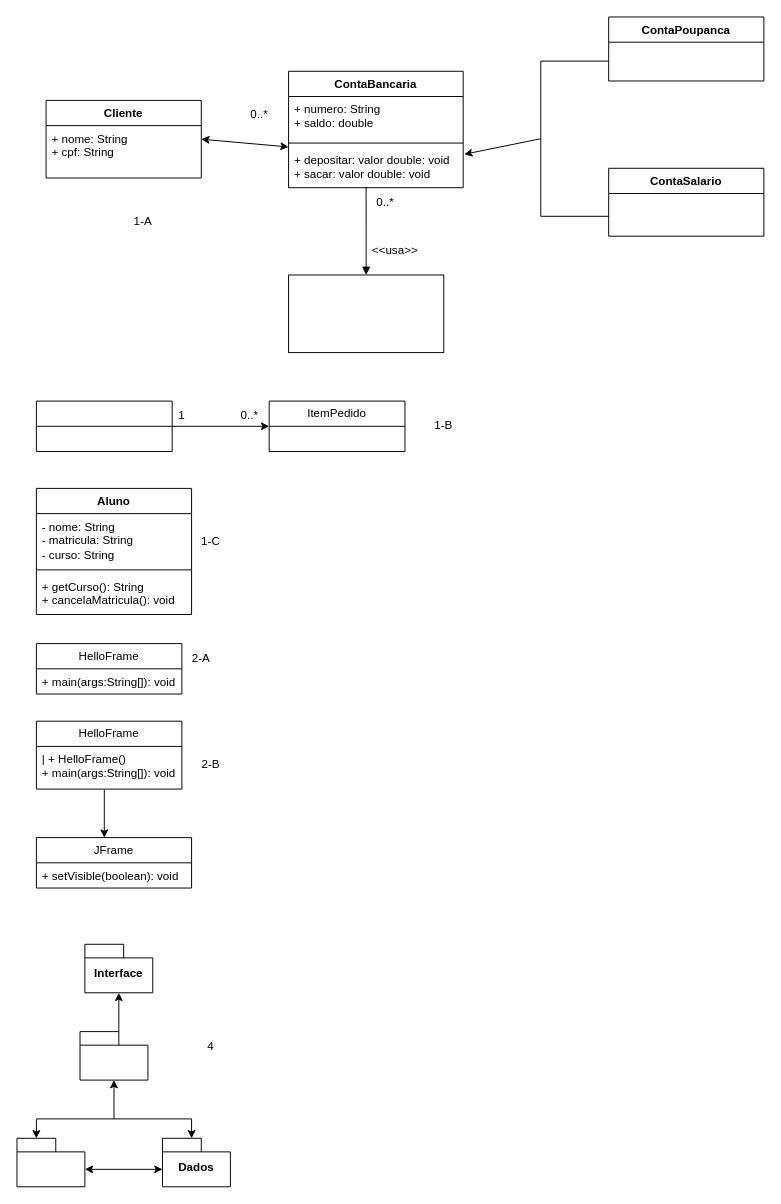
The diagram is 781 pixels wide and 1204 high, and some of its shapes have lost their labels. The shapes that lost their labels are listed below. From the top down, each one's centre as x and y in pixels, then its label:
At point 366,313: "BancoDeDados".
At point 103,426: "Produto".
At point 113,1055: "Negocio".
At point 50,1162: "Entidades".
